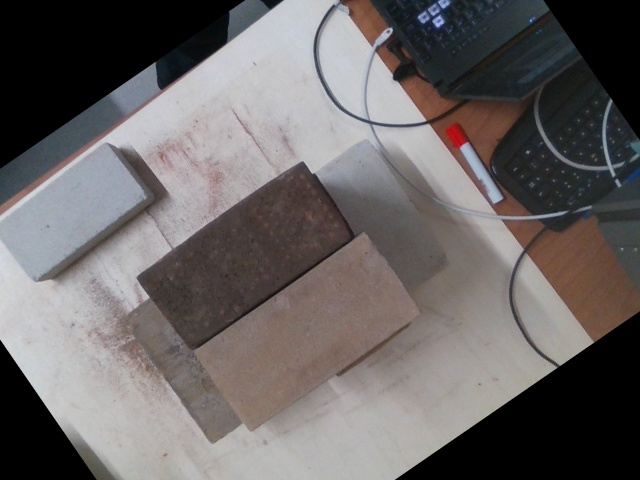brick: (193, 235, 420, 434), (136, 162, 354, 353), (0, 142, 145, 281)
